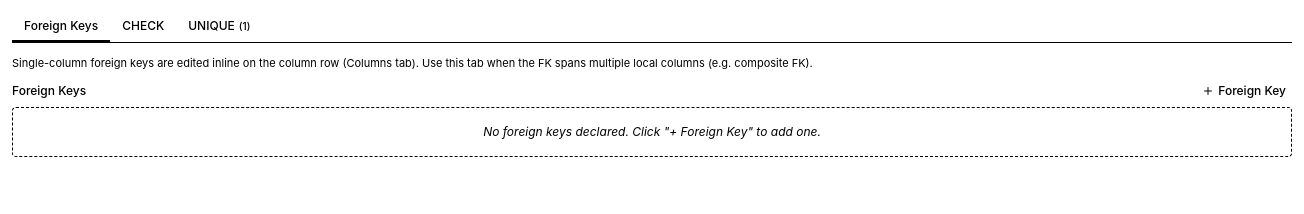
ForeignKeysTabBody › UNIQUE row renders name + columns multi-checkbox group
Click the tab "UNIQUE(1)".
click(219, 27)  # box x1=176 y1=12 x2=262 y2=42
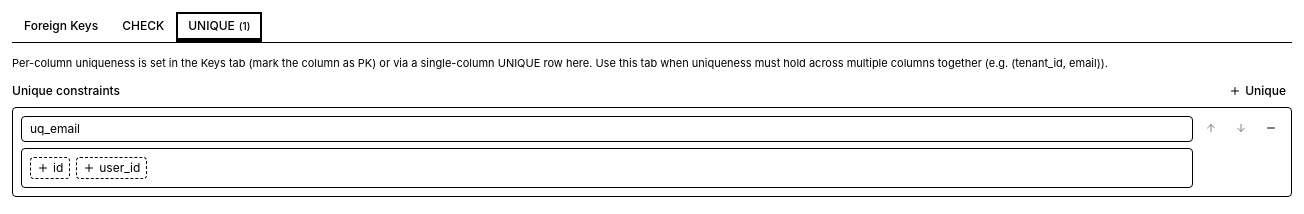
Result: the field named "Unique name" is shown at x1=21 y1=116 x2=1193 y2=142
Result: the button with aria-label "Unique column: id" is shown at x1=30 y1=157 x2=70 y2=179
Result: the button with aria-label "Unique column: user_id" is shown at x1=76 y1=157 x2=147 y2=179
